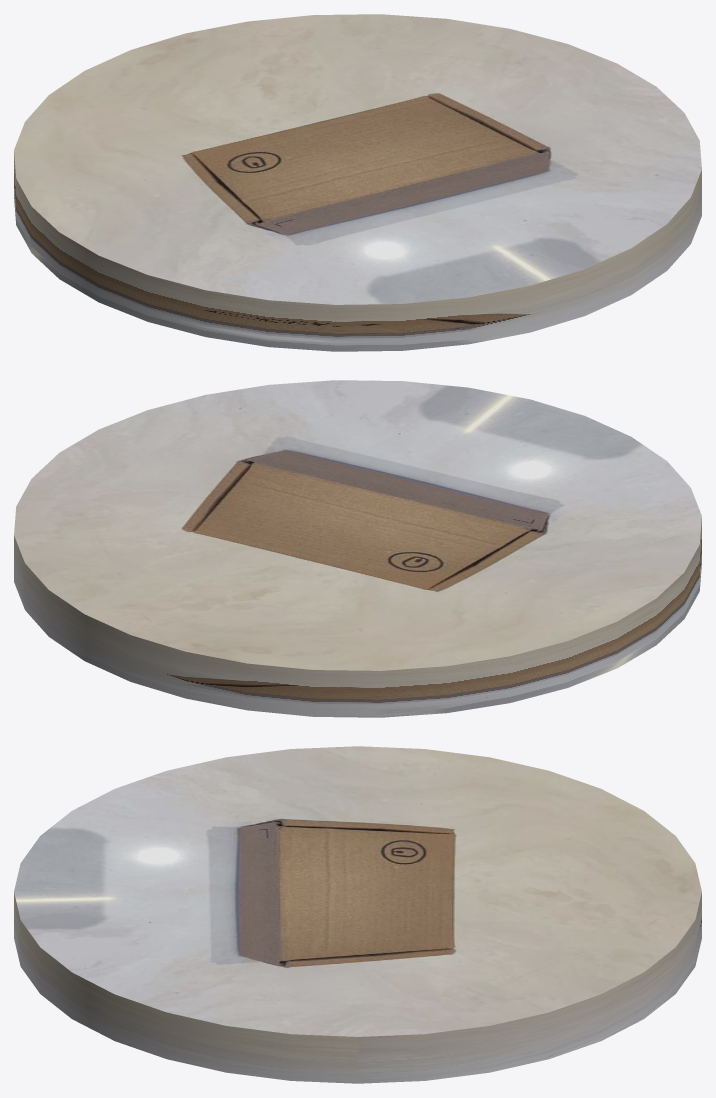
3 renders of one model, top to bottom at view 1: azimuth 30°, elevation 25°; view 2: azimuth 150°, elevation 25°; view 3: azimuth 270°, elevation 25°, orthographic.
Parts seen in each view (by area): view 1: dishNode; view 2: dishNode; view 3: dishNode.
Boxes of the visible parts, x1=… form: dishNode: x1=14, y1=14, x2=701, y2=351; dishNode: x1=14, y1=380, x2=701, y2=717; dishNode: x1=14, y1=746, x2=701, y2=1083.
Size of the model in its own units: 2 by 0.15 by 2.
1 material, 1 textured.
